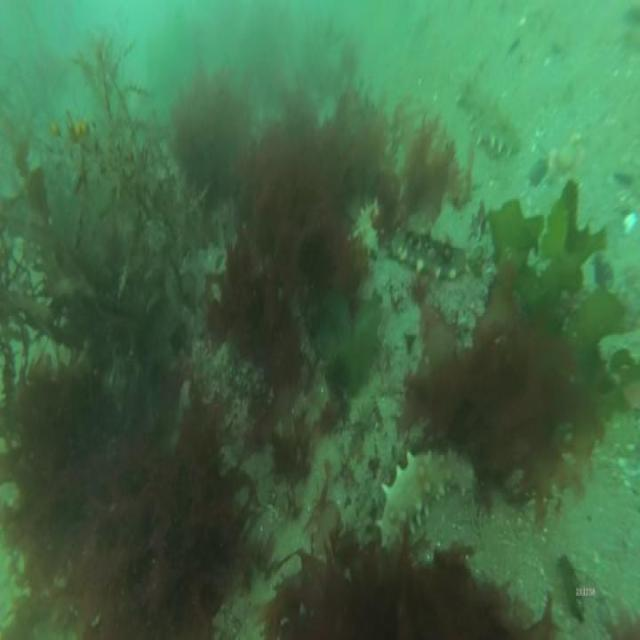holothurian: (370, 441, 474, 555), (383, 215, 471, 289), (459, 85, 524, 158)
waterweeds: (0, 91, 427, 640), (431, 190, 637, 506), (265, 518, 555, 640)
